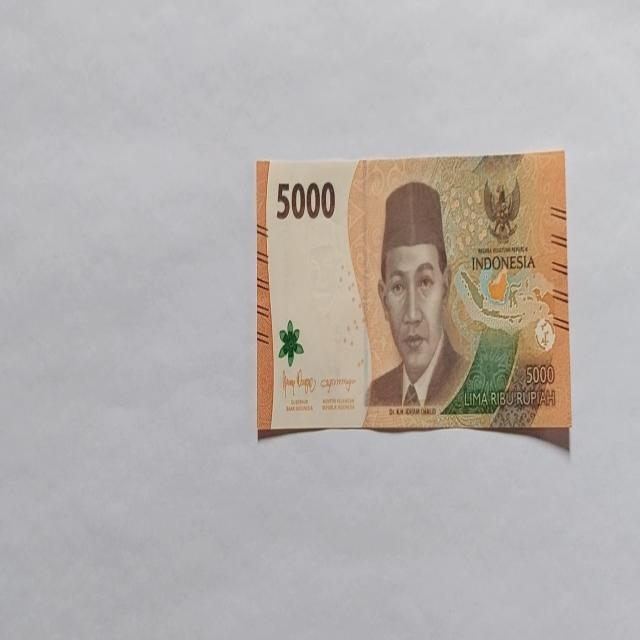lima ribu rupiah: (255, 151, 571, 442), (363, 180, 470, 412)
